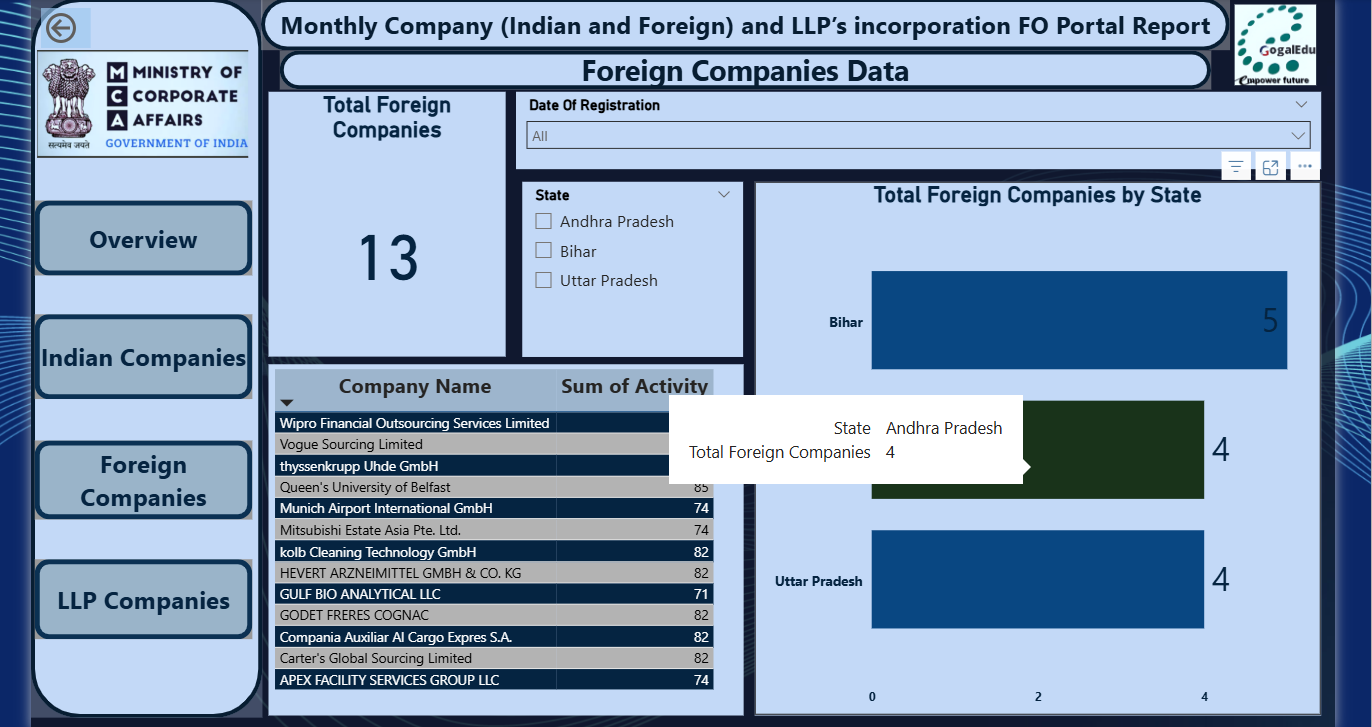

This screenshot's page, from the dashboard's own definition file:
{"tool":"powerbi","page":{"name":"Foreign Companies","canvas":[1280,720],"ordinal":3},"visuals":[{"type":"shape","box":[0,0,227,706.8],"z":0},{"type":"card","title":"Total Foreign Companies","fields":{"Values":["Foreign Companies.Total Foreign Comapnies"]},"box":[233.1,92,233.1,260.1],"z":1000},{"type":"tableEx","fields":{"Values":["Foreign Companies. Company Name","Sum(Foreign Companies. Activity)"]},"box":[233.1,359.5,466.3,344.8],"z":2000},{"type":"slicer","fields":{"Values":["Table 1 (Indian Companies). Date Of Registration"]},"box":[476.1,92,790.2,76.1],"z":3000},{"type":"clusteredBarChart","fields":{"Category":["Foreign Companies.State"],"Y":["Foreign Companies.Total Foreign Comapnies"]},"box":[710.4,180.4,555.8,523.9],"z":4000},{"type":"slicer","fields":{"Values":["Foreign Companies.State"]},"box":[482.2,180.4,217.2,171.8],"z":5000},{"type":"image","box":[1.2,0,217.2,207.4],"z":6000},{"type":"actionButton","box":[3.7,198.8,213.5,73.6],"z":7000},{"type":"actionButton","box":[3.7,310.4,213.5,83.4],"z":8000},{"type":"actionButton","box":[3.7,434.4,213.5,77.3],"z":9000},{"type":"actionButton","box":[3.7,550.9,213.5,78.5],"z":10000},{"type":"actionButton","box":[10,10,49.1,39.3],"z":11000},{"type":"shape","box":[225.8,0,950.9,51.5],"z":12000},{"type":"shape","box":[244.2,51.5,914.1,38],"z":13000},{"type":"image","box":[1176.7,0,89.6,92],"z":14000}]}

Visuals, with their boxes on the page's 1280x720 design canvas (x1, y1, x2, y2). These are canvas units, not pixel positions in the 1372x727 screenshot, which may show the page scaled, cropped or inside an application window:
shape: x1=0 y1=0 x2=227 y2=707
"Total Foreign Companies" card: x1=233 y1=92 x2=466 y2=352
tableEx - Foreign Companies. Company Name x Sum(Foreign Companies. Activity): x1=233 y1=360 x2=699 y2=704
slicer - Table 1 (Indian Companies). Date Of Registration: x1=476 y1=92 x2=1266 y2=168
clusteredBarChart - Foreign Companies.State x Foreign Companies.Total Foreign Comapnies: x1=710 y1=180 x2=1266 y2=704
slicer - Foreign Companies.State: x1=482 y1=180 x2=699 y2=352
image: x1=1 y1=0 x2=218 y2=207
actionButton: x1=4 y1=199 x2=217 y2=272
actionButton: x1=4 y1=310 x2=217 y2=394
actionButton: x1=4 y1=434 x2=217 y2=512
actionButton: x1=4 y1=551 x2=217 y2=629
actionButton: x1=10 y1=10 x2=59 y2=49
shape: x1=226 y1=0 x2=1177 y2=52
shape: x1=244 y1=52 x2=1158 y2=90
image: x1=1177 y1=0 x2=1266 y2=92
